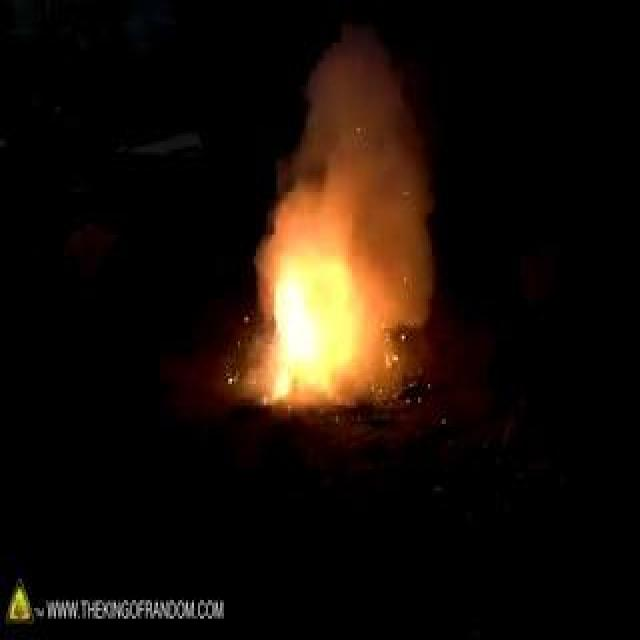Fire: (126, 162, 312, 334)
